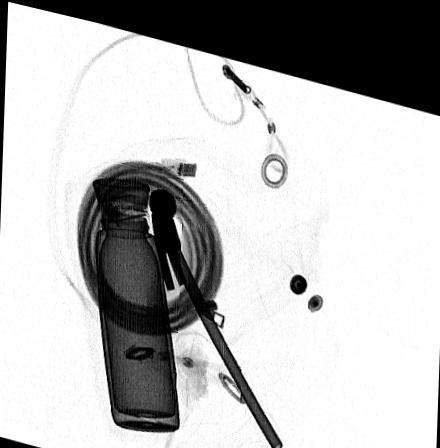Hammer: (146, 179, 282, 439)
